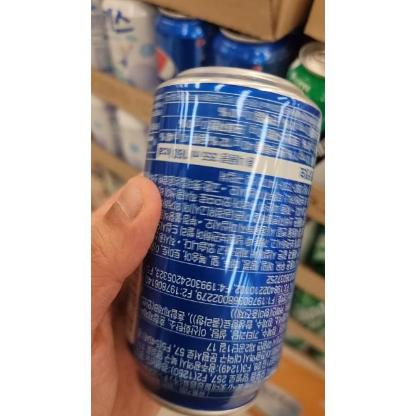Can: (125, 62, 321, 416)
